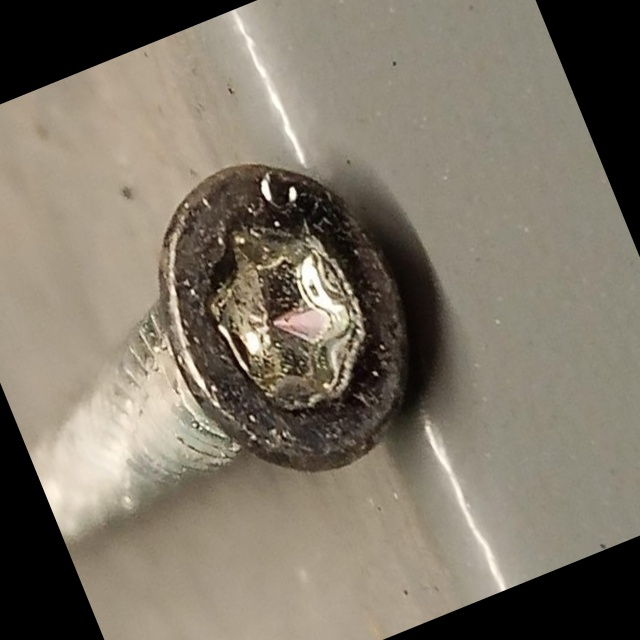torx: (117, 120, 460, 512)
